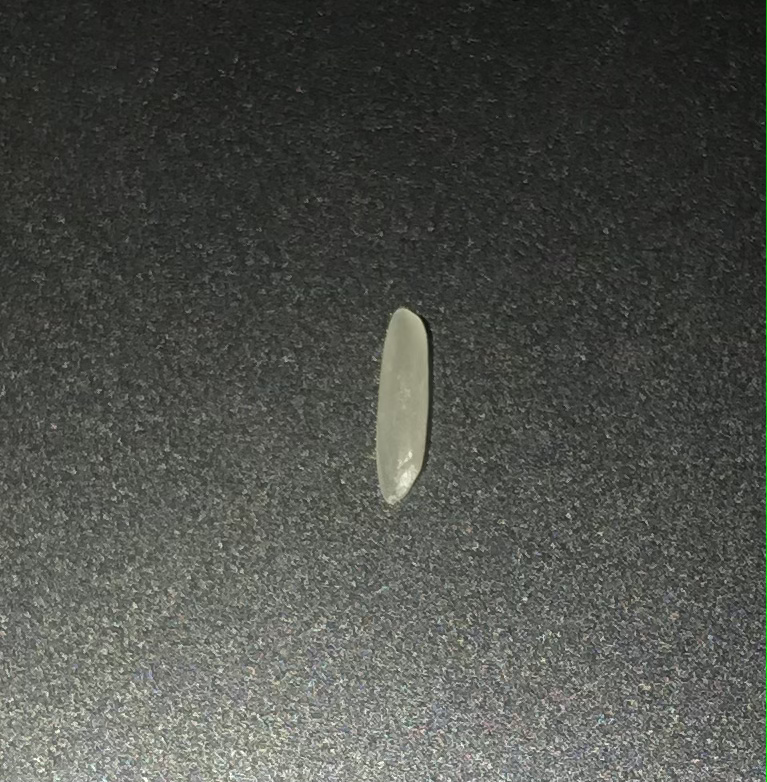Gao Thom My: (369, 302, 435, 504)
